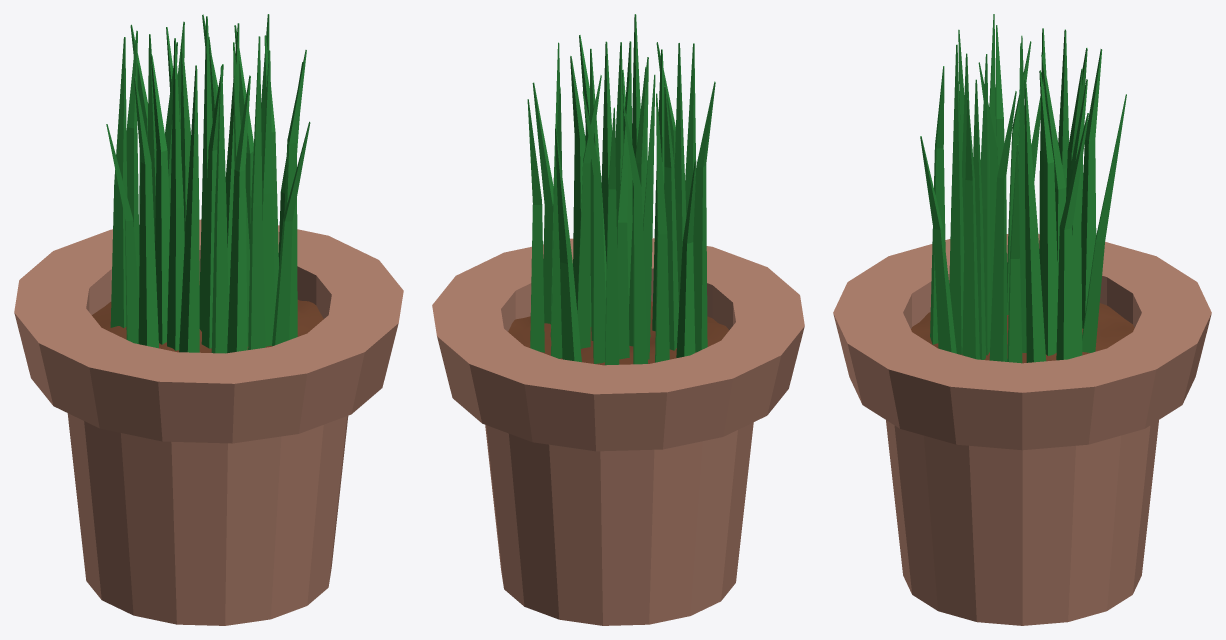
The model's file is nekogusa.fbx.
The picture shows the model from 3 angles, left to right: view 1: azimuth 30°, elevation 25°; view 2: azimuth 150°, elevation 25°; view 3: azimuth 270°, elevation 25°; orthographic projection. The views are drawn at different scales.
Parts seen in each view (by area): view 1: pot, grass, soil; view 2: pot, grass, soil; view 3: pot, grass, soil.
Boxes of the visible parts, <box> form: pot: <box>14,219,403,625</box>; grass: <box>106,14,310,353</box>; soil: <box>92,281,323,352</box>; pot: <box>432,238,804,625</box>; grass: <box>527,14,715,365</box>; soil: <box>508,301,729,365</box>; pot: <box>833,234,1211,625</box>; grass: <box>920,14,1126,363</box>; soil: <box>911,303,1134,363</box>.
Size of the model in its own units: 207 by 324 by 207.
